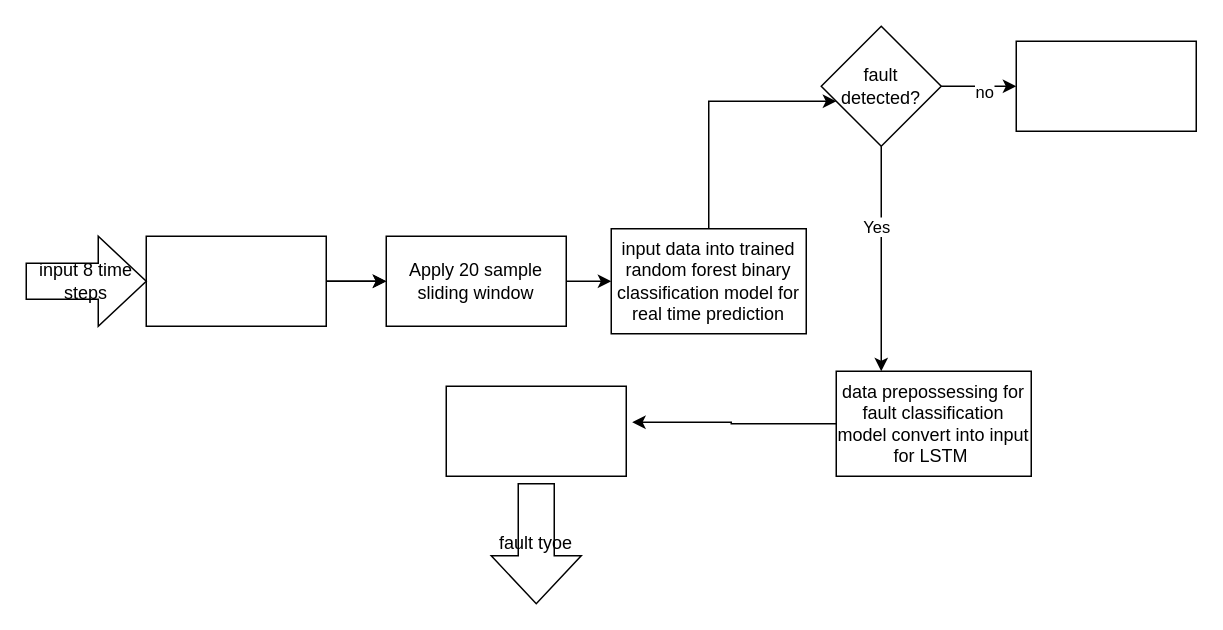
This 1223x630 diagram has some shape labels left out. The shapes that lost their labels are listed below. From the top down, each one's centre as x and y in pixels, then its label:
At pixel 1105 85: "no action required".
At pixel 235 280: "generate the lagged features and apply Fourier transform".
At pixel 535 430: "input data into trained LSTM model".
